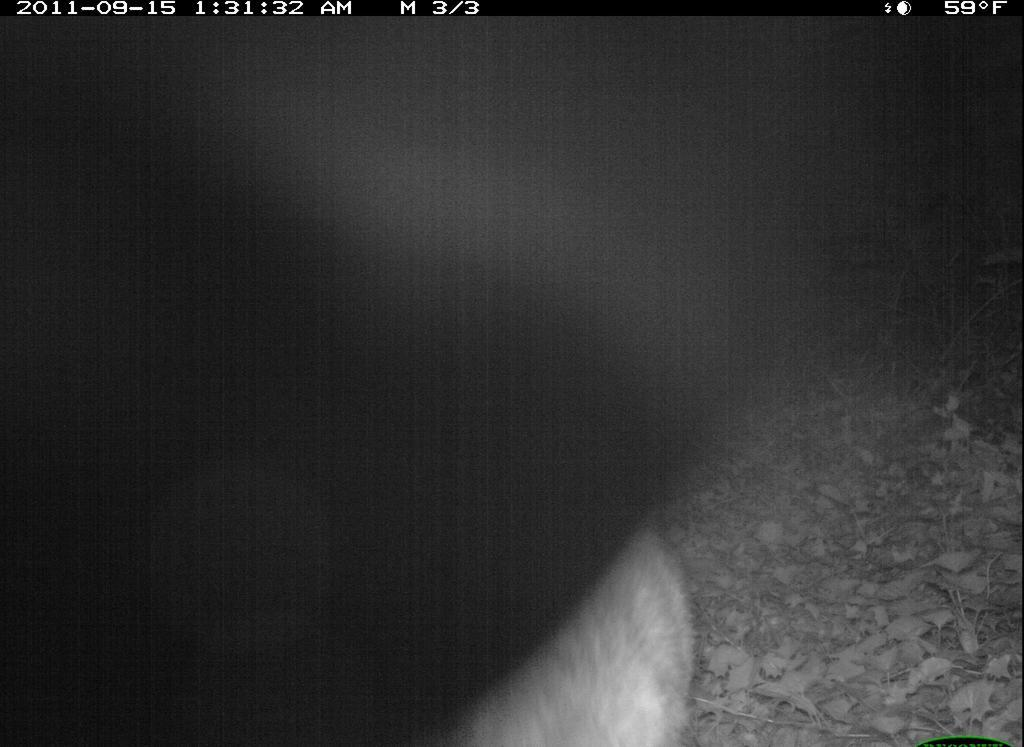coyote: (418, 509, 710, 745)
